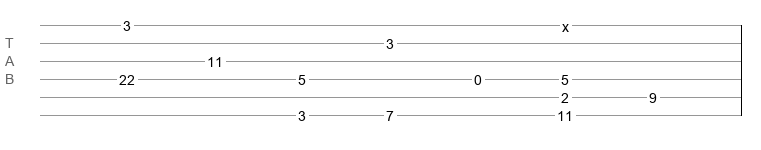0: (474, 72, 482, 82)
11: (207, 54, 223, 64), (557, 108, 573, 118)
2: (561, 90, 569, 100)
22: (119, 72, 135, 82)
3: (123, 18, 131, 28), (298, 108, 306, 118), (386, 36, 394, 46)
5: (298, 72, 306, 82), (561, 72, 569, 82)
7: (386, 108, 394, 118)
9: (649, 90, 657, 100)
x: (562, 19, 569, 27)
